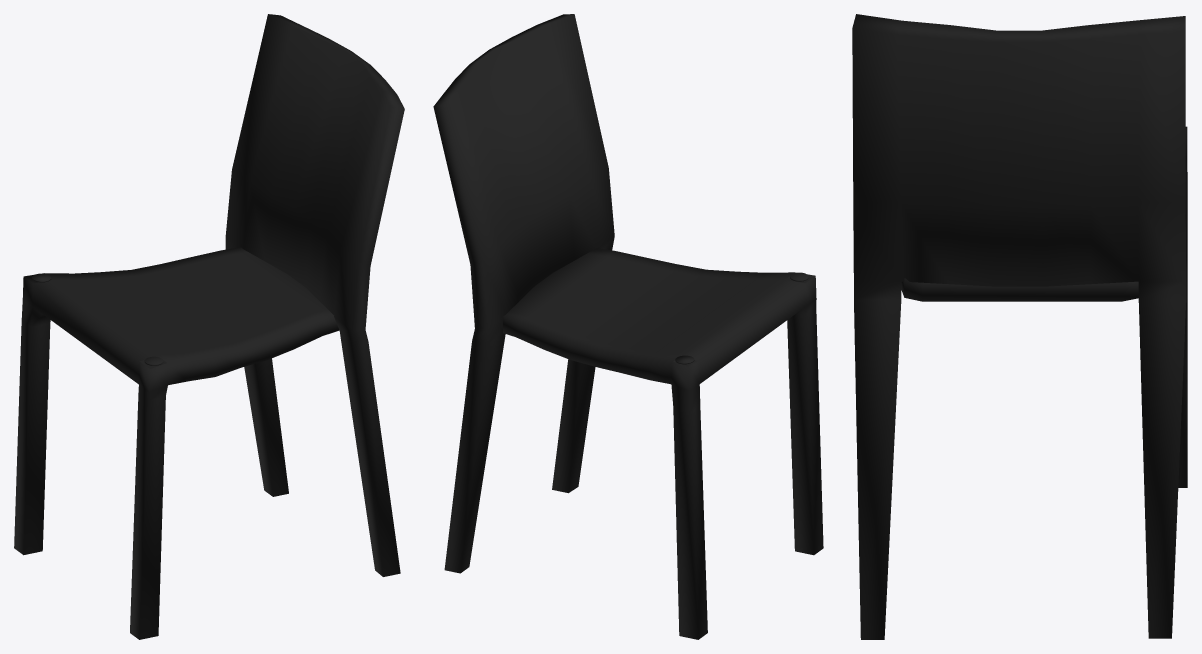
File: SillaNegra_PedroG_47026683.fbx
3 renders of one model, left to right at view 1: azimuth 30°, elevation 25°; view 2: azimuth 150°, elevation 25°; view 3: azimuth 270°, elevation 25°, orthographic. The views are drawn at different scales.
Visible parts, largest first — view 1: SillaNegra; view 2: SillaNegra; view 3: SillaNegra.
Boxes of the visible parts, box(x1,y1,x2,y2) form: SillaNegra: box(14, 14, 404, 639); SillaNegra: box(433, 14, 823, 639); SillaNegra: box(852, 14, 1187, 639).
Bounding box in the file's own units: 51.68 × 82.58 × 40.35.
1 material, 1 textured.
